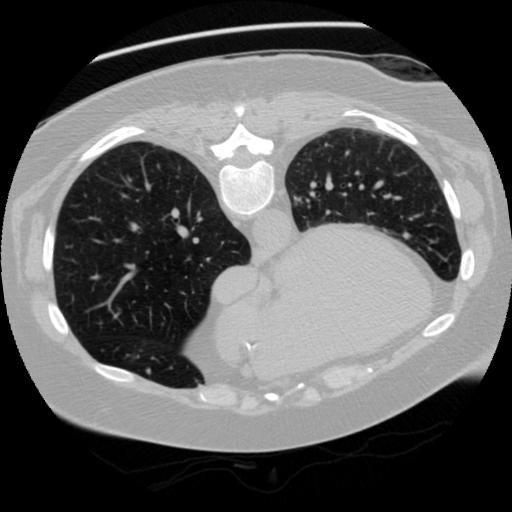nodule: (142, 367, 153, 378)
